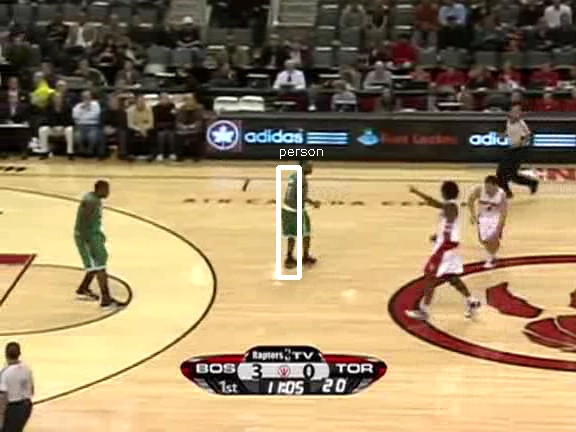person: (278, 169, 312, 250), (277, 169, 311, 250), (279, 169, 313, 250), (278, 168, 312, 249), (278, 170, 312, 251)
target_negative: (48, 366, 560, 393), (422, 154, 504, 225), (86, 150, 414, 156), (381, 118, 433, 153), (487, 423, 491, 427)
